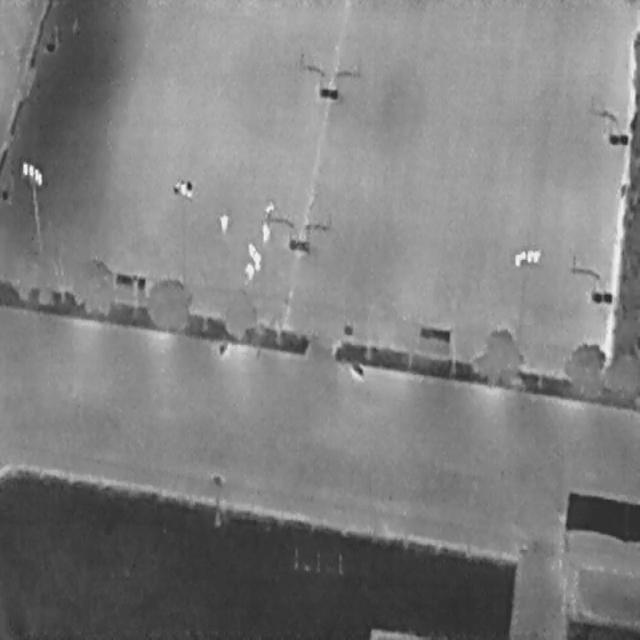Person: (260, 220, 271, 244), (243, 262, 254, 282), (264, 199, 274, 220), (219, 212, 228, 232), (253, 249, 261, 270), (247, 241, 255, 259)
